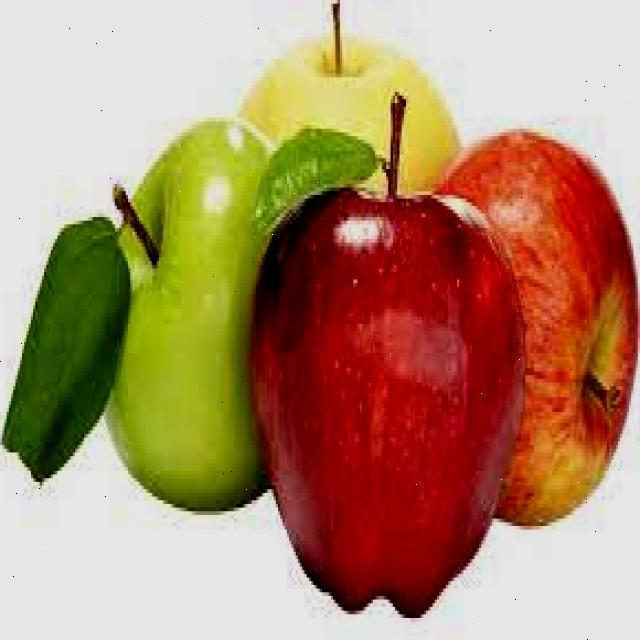apple: (213, 86, 531, 640), (12, 109, 314, 538), (430, 108, 640, 548), (229, 0, 496, 224)
